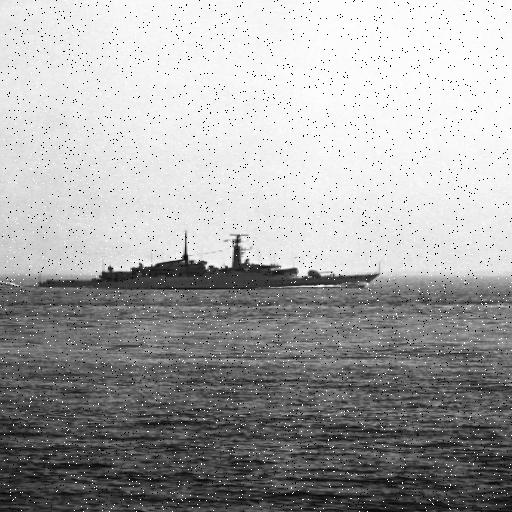Fragata: (32, 221, 393, 293)
